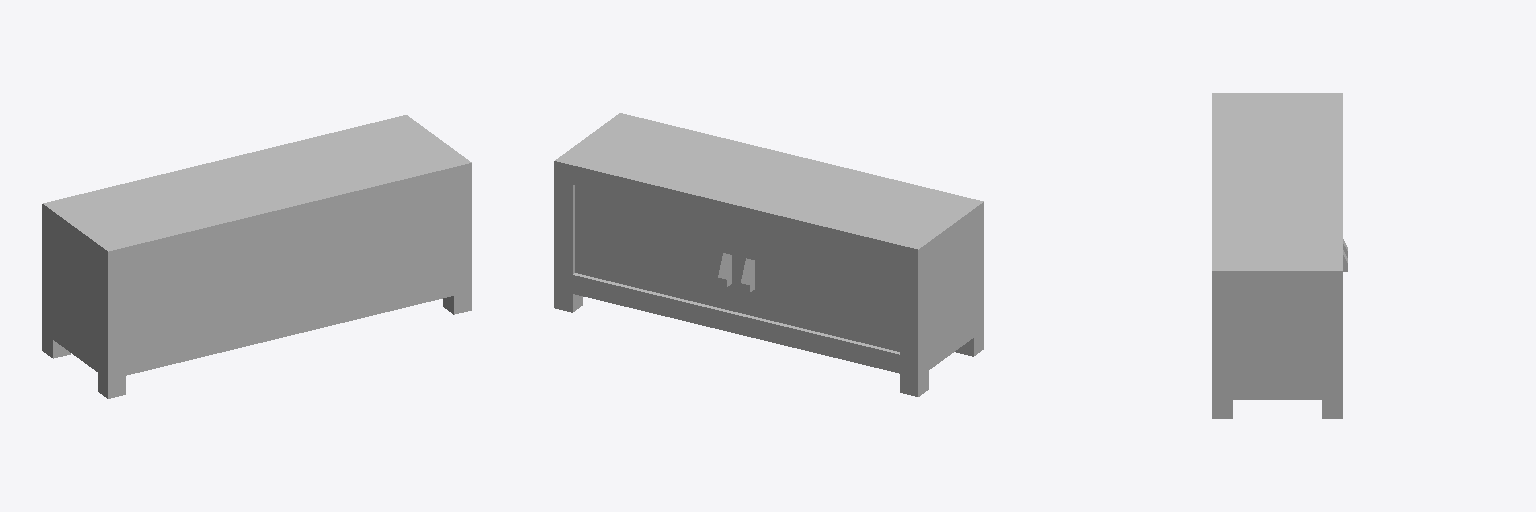
File: cabinetTelevisionDoors.obj
The picture shows the model from 3 angles: view 1: azimuth 30°, elevation 25°; view 2: azimuth 150°, elevation 25°; view 3: azimuth 270°, elevation 25°; orthographic projection.
Parts seen in each view (by area): view 1: cabinetTelevisionDoors; view 2: cabinetTelevisionDoors, doorLeft 1, doorRight 1; view 3: cabinetTelevisionDoors.
Boxes of the visible parts, x1=… form: cabinetTelevisionDoors: x1=42, y1=115, x2=471, y2=398; cabinetTelevisionDoors: x1=554, y1=113, x2=983, y2=396; doorLeft 1: x1=575, y1=185, x2=738, y2=312; doorRight 1: x1=739, y1=225, x2=899, y2=351; cabinetTelevisionDoors: x1=1212, y1=93, x2=1342, y2=418.
Size of the model in its own units: 8 by 3.1 by 2.6.